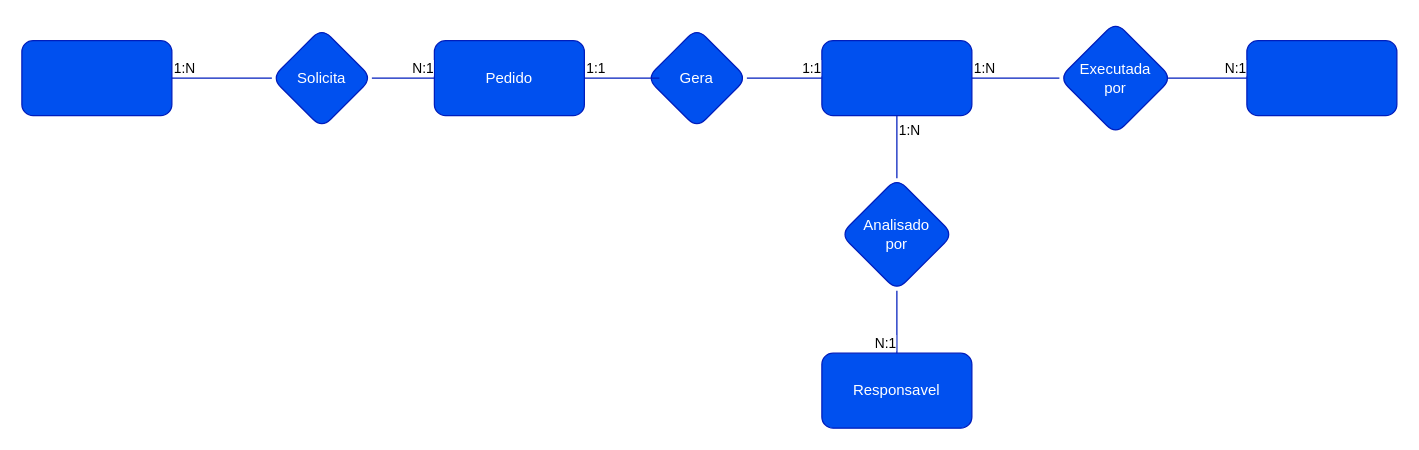
The diagram is 1419 pixels wide and 450 high, and some of its shapes have lost their labels. Here are the shapes that lost their labels. From the top down, the centre of each, then its label:
the point at 96,77: Clientes
the point at 896,77: Ordem de Seviço
the point at 1321,77: Tecnico
